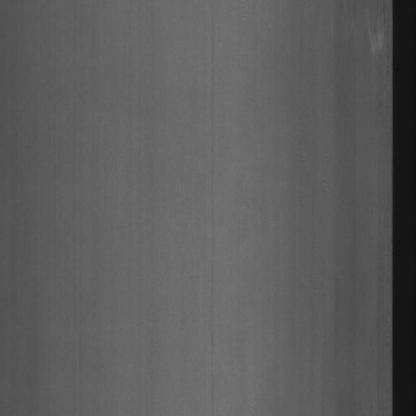silk_spot: (358, 9, 390, 68)
